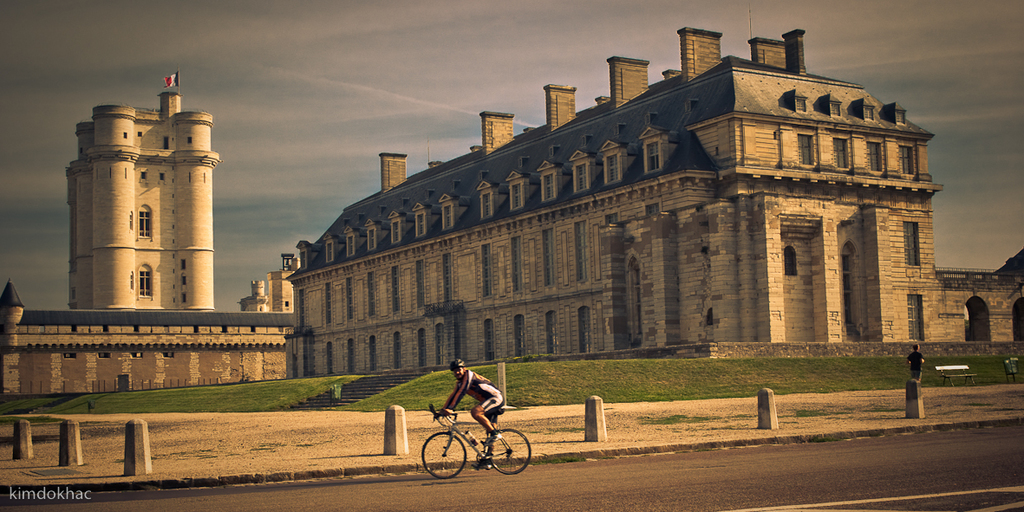Bike: (409, 409, 539, 480)
